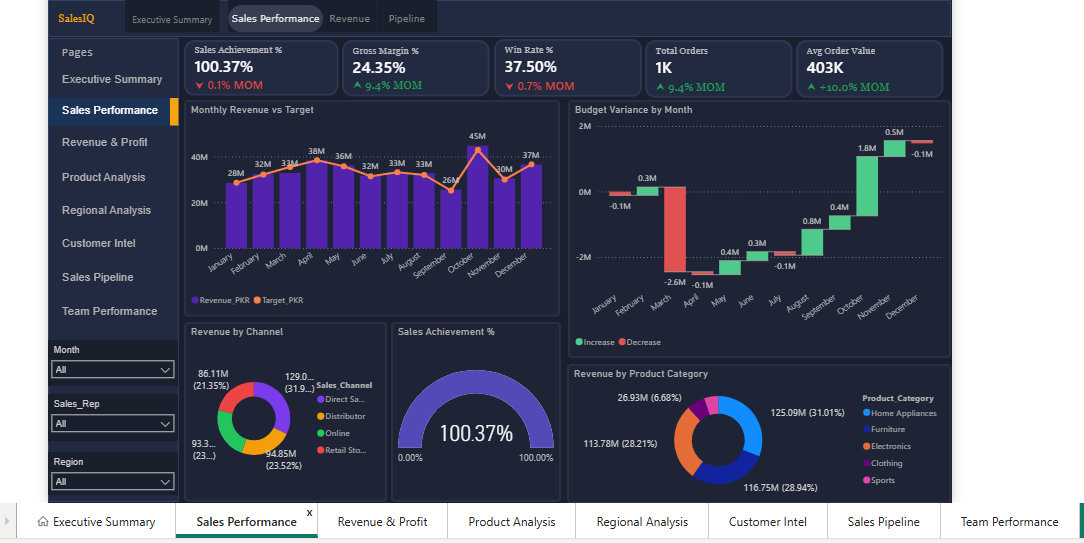

The page's visual inventory and layout, read from the dashboard file:
{"tool":"powerbi","page":{"name":"Sales Performance","canvas":[1280,720],"ordinal":1},"visuals":[{"type":"shape","box":[0,0,1279.8,59.5],"z":0,"group":"g10"},{"type":"shape","box":[0,60.9,185,657.6],"z":0,"group":"g9"},{"type":"cardVisual","title":"Total Revenue ","fields":{"Data":["Table1.1 Sales Achievement %"]},"box":[192.8,63.8,219.7,79.4],"z":0},{"type":"actionButton","box":[0,102.2,185,39.4],"z":0,"group":"g1"},{"type":"actionButton","box":[0,145.6,185,39.4],"z":0,"group":"g2"},{"type":"actionButton","box":[0,191.7,185.7,43.3],"z":0,"group":"g3"},{"type":"actionButton","box":[0,241.1,185,39.4],"z":0,"group":"g4"},{"type":"actionButton","box":[0,288.3,185,39.4],"z":0,"group":"g5"},{"type":"actionButton","box":[0,335.1,185,39.4],"z":0,"group":"g6"},{"type":"actionButton","box":[0,382.6,185,39.4],"z":0,"group":"g8"},{"type":"actionButton","box":[0,430.2,185,39.4],"z":0,"group":"g7"},{"type":"actionButton","box":[109,6.9,134,45.8],"z":1000,"group":"g10"},{"type":"group","id":"g1","title":"Executive summary 1","box":[0,102.2,185,39.4],"z":1000,"group":"g9"},{"type":"shape","box":[173,145.6,12,39.4],"z":1000,"group":"g2"},{"type":"slicer","fields":{"Values":["Calendar.Month"]},"box":[1169.3,219.7,86.5,48.2],"z":1000},{"type":"actionButton","box":[255,6.9,135,45.8],"z":2000,"group":"g10"},{"type":"cardVisual","title":"Total Revenue ","fields":{"Data":["Table1.Gross Margin %"]},"box":[416,63.8,209.8,80.8],"z":2000},{"type":"group","id":"g2","title":"Executive summary 1","box":[0,145.6,185,39.4],"z":2000,"group":"g9"},{"type":"actionButton","box":[390,6.9,76,45.8],"z":3000,"group":"g10"},{"type":"cardVisual","title":"Total Revenue ","fields":{"Data":["Table1.Avg Order Value"]},"box":[1060.2,64,209.8,82.2],"z":3000},{"type":"group","id":"g3","title":"Executive summary 1","box":[0,191.7,185.7,53.3],"z":3000,"group":"g9"},{"type":"actionButton","box":[465.9,6.9,85,45.8],"z":4000,"group":"g10"},{"type":"cardVisual","title":"Total Revenue ","fields":{"Data":["Table1.Total Orders"]},"box":[846,64,209.8,82.2],"z":4000},{"type":"group","id":"g4","title":"Executive summary 1","box":[0,241.1,185,39.4],"z":4000,"group":"g9"},{"type":"cardVisual","title":"Total Revenue ","fields":{"Data":["Table1.1Win Rate %"]},"box":[632,63,210,82.2],"z":5000},{"type":"group","id":"g5","title":"Executive summary 1","box":[0,288.3,185,39.4],"z":5000,"group":"g9"},{"type":"lineClusteredColumnComboChart","title":"Monthly Revenue vs Target","fields":{"Category":["Calendar.Year","Calendar.Month"],"Y":["Sum(Table1.Revenue_PKR)"],"Y2":["Sum(Table1.Target_PKR)"]},"box":[193.4,149.1,533,307.1],"z":6000},{"type":"group","id":"g6","title":"Executive summary 1","box":[0,335.1,185,39.4],"z":6000,"group":"g9"},{"type":"group","id":"g7","title":"Executive summary 1","box":[0,430.2,185,39.4],"z":7000,"group":"g9"},{"type":"donutChart","title":"Revenue by Channel","fields":{"Y":["Sum(Table1.Revenue_PKR)"],"Category":["Table1.Sales_Channel"]},"box":[193.4,463.6,287.9,255.4],"z":7000},{"type":"group","id":"g8","title":"Executive summary 1","box":[0,382.6,185,39.4],"z":8000,"group":"g9"},{"type":"gauge","fields":{"Y":["Table1.1 Sales Achievement %"]},"box":[485.7,463.6,240.6,255.4],"z":8000},{"type":"slicer","fields":{"Values":["Table1.Region"]},"box":[1097,3,172.9,48.2],"z":9000},{"type":"slicer","fields":{"Values":["Table1.Product_Category"]},"box":[914.2,3,172.9,49.6],"z":10000},{"type":"slicer","fields":{"Values":["Calendar.Month"]},"box":[725.7,3,172.9,49.6],"z":11000},{"type":"group","id":"g9","title":"1 side bar","box":[0,60.9,185.7,657.6],"z":12000},{"type":"group","id":"g10","title":"1 Header","box":[0,0,1280,59.1],"z":13000},{"type":"slicer","fields":{"Values":["Table1.Sales_Rep"]},"box":[0,565.5,184.3,66.6],"z":15000},{"type":"slicer","fields":{"Values":["Table1.Region"]},"box":[0,647.7,184.3,60.9],"z":16000},{"type":"donutChart","title":"Revenue by Product Category","fields":{"Y":["Sum(Table1.Revenue_PKR)"],"Category":["Table1.Product_Category"]},"box":[735.2,522.6,544.8,197.8],"z":17000},{"type":"waterfallChart","fields":{"Y":["Table1.Budget Variance"],"Category":["Calendar.Month"]},"box":[736.7,149.1,543.3,366.1],"z":18000},{"type":"slicer","fields":{"Values":["Calendar.Month"]},"box":[0,489,184.3,65.2],"z":19000}]}

Visuals, with their boxes on the page's 1280x720 design canvas (x1, y1, x2, y2). These are canvas units, not pixel positions in the 1084x543 screenshot, which may show the page scaled, cropped or inside an application window:
shape: {"left": 0, "top": 0, "right": 1280, "bottom": 60}
shape: {"left": 0, "top": 61, "right": 185, "bottom": 718}
"Total Revenue " cardVisual: {"left": 193, "top": 64, "right": 412, "bottom": 143}
actionButton: {"left": 0, "top": 102, "right": 185, "bottom": 142}
actionButton: {"left": 0, "top": 146, "right": 185, "bottom": 185}
actionButton: {"left": 0, "top": 192, "right": 186, "bottom": 235}
actionButton: {"left": 0, "top": 241, "right": 185, "bottom": 280}
actionButton: {"left": 0, "top": 288, "right": 185, "bottom": 328}
actionButton: {"left": 0, "top": 335, "right": 185, "bottom": 374}
actionButton: {"left": 0, "top": 383, "right": 185, "bottom": 422}
actionButton: {"left": 0, "top": 430, "right": 185, "bottom": 470}
actionButton: {"left": 109, "top": 7, "right": 243, "bottom": 53}
"Executive summary 1" group: {"left": 0, "top": 102, "right": 185, "bottom": 142}
shape: {"left": 173, "top": 146, "right": 185, "bottom": 185}
slicer - Calendar.Month: {"left": 1169, "top": 220, "right": 1256, "bottom": 268}
actionButton: {"left": 255, "top": 7, "right": 390, "bottom": 53}
"Total Revenue " cardVisual: {"left": 416, "top": 64, "right": 626, "bottom": 145}
"Executive summary 1" group: {"left": 0, "top": 146, "right": 185, "bottom": 185}
actionButton: {"left": 390, "top": 7, "right": 466, "bottom": 53}
"Total Revenue " cardVisual: {"left": 1060, "top": 64, "right": 1270, "bottom": 146}
"Executive summary 1" group: {"left": 0, "top": 192, "right": 186, "bottom": 245}
actionButton: {"left": 466, "top": 7, "right": 551, "bottom": 53}
"Total Revenue " cardVisual: {"left": 846, "top": 64, "right": 1056, "bottom": 146}
"Executive summary 1" group: {"left": 0, "top": 241, "right": 185, "bottom": 280}
"Total Revenue " cardVisual: {"left": 632, "top": 63, "right": 842, "bottom": 145}
"Executive summary 1" group: {"left": 0, "top": 288, "right": 185, "bottom": 328}
"Monthly Revenue vs Target" lineClusteredColumnComboChart: {"left": 193, "top": 149, "right": 726, "bottom": 456}
"Executive summary 1" group: {"left": 0, "top": 335, "right": 185, "bottom": 374}
"Executive summary 1" group: {"left": 0, "top": 430, "right": 185, "bottom": 470}
"Revenue by Channel" donutChart: {"left": 193, "top": 464, "right": 481, "bottom": 719}
"Executive summary 1" group: {"left": 0, "top": 383, "right": 185, "bottom": 422}
gauge - Table1.1 Sales Achievement %: {"left": 486, "top": 464, "right": 726, "bottom": 719}
slicer - Table1.Region: {"left": 1097, "top": 3, "right": 1270, "bottom": 51}
slicer - Table1.Product_Category: {"left": 914, "top": 3, "right": 1087, "bottom": 53}
slicer - Calendar.Month: {"left": 726, "top": 3, "right": 899, "bottom": 53}
"1 side bar" group: {"left": 0, "top": 61, "right": 186, "bottom": 718}
"1 Header" group: {"left": 0, "top": 0, "right": 1280, "bottom": 59}
slicer - Table1.Sales_Rep: {"left": 0, "top": 566, "right": 184, "bottom": 632}
slicer - Table1.Region: {"left": 0, "top": 648, "right": 184, "bottom": 709}
"Revenue by Product Category" donutChart: {"left": 735, "top": 523, "right": 1280, "bottom": 720}
waterfallChart - Table1.Budget Variance x Calendar.Month: {"left": 737, "top": 149, "right": 1280, "bottom": 515}
slicer - Calendar.Month: {"left": 0, "top": 489, "right": 184, "bottom": 554}
